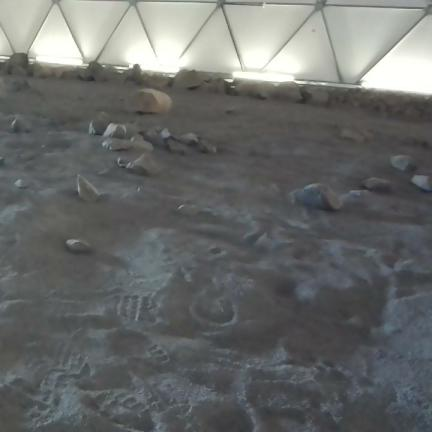Rock: (291, 183, 342, 211), (128, 89, 172, 113), (126, 154, 160, 176), (32, 63, 76, 79), (236, 82, 276, 99), (174, 70, 209, 89), (77, 174, 100, 202), (5, 53, 29, 76), (300, 87, 329, 106), (276, 83, 302, 103), (103, 123, 135, 139), (89, 112, 110, 135), (200, 78, 229, 94), (145, 128, 172, 145), (362, 177, 391, 192), (80, 62, 103, 80), (143, 75, 172, 89), (102, 138, 132, 151), (391, 155, 415, 171), (131, 135, 153, 152), (66, 239, 92, 253), (123, 65, 142, 83), (10, 116, 29, 133), (341, 128, 364, 142), (411, 175, 431, 191), (167, 140, 188, 155), (179, 133, 200, 145), (198, 140, 217, 153), (349, 190, 369, 196), (15, 179, 27, 188), (117, 158, 127, 167)
